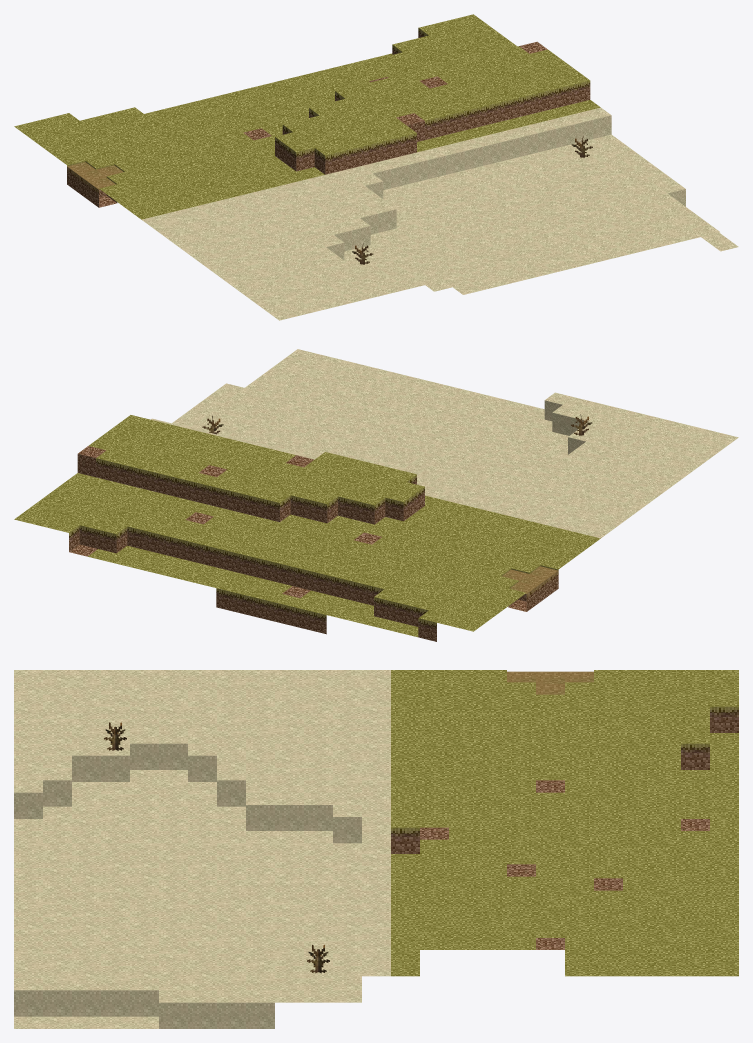
File: chunk325-500-lvl-1-transformed.glb
3 views of the same model, one above another, from view 1: azimuth 30°, elevation 25°; view 2: azimuth 150°, elevation 25°; view 3: azimuth 270°, elevation 25° (orthographic). The views are drawn at different scales.
Visible parts, largest first — view 1: Sand, Grass_Block, Dirt_Path, Dirt; view 2: Grass_Block, Sand, Dirt, Dirt_Path; view 3: Sand, Grass_Block, Dirt, Dirt_Path, Dead_Bush.
Boxes of the visible parts, box(x1,y1,x2,y2) form: Sand: box(142, 107, 738, 320); Grass_Block: box(14, 14, 600, 219); Dirt_Path: box(67, 162, 123, 207); Dirt: box(99, 41, 547, 207); Grass_Block: box(14, 415, 600, 641); Sand: box(151, 349, 738, 538); Dirt: box(69, 446, 526, 611); Dirt_Path: box(502, 566, 558, 611); Sand: box(14, 670, 390, 1028); Grass_Block: box(391, 670, 738, 976); Dirt: box(420, 780, 709, 949); Dirt_Path: box(507, 671, 593, 694); Dead_Bush: box(104, 722, 329, 973).
Size of the model in its own units: 25 by 3 by 25.
7 materials, 7 textured.
